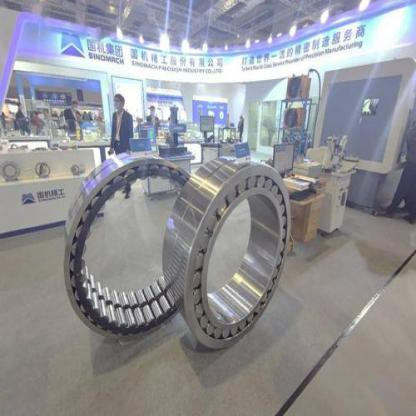FOD: (57, 149, 203, 350), (163, 152, 293, 356)
